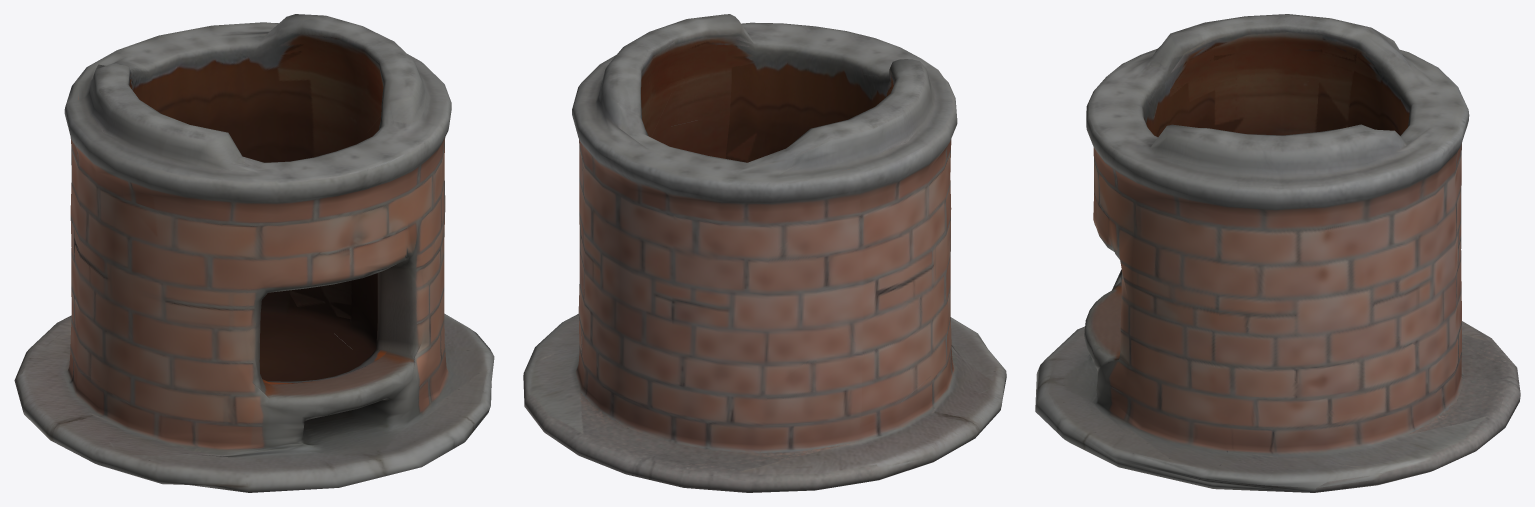
File: Stove.fbx
3 renders of one model, left to right at view 1: azimuth 30°, elevation 25°; view 2: azimuth 150°, elevation 25°; view 3: azimuth 270°, elevation 25°, orthographic.
Parts seen in each view (by area): view 1: input; view 2: input; view 3: input.
Boxes of the visible parts, left/top/right/bottom form: input: left=14, top=14, right=494, bottom=492; input: left=523, top=14, right=1006, bottom=492; input: left=1035, top=14, right=1520, bottom=492.
Bounding box in the file's own units: 186 × 134 × 187.
1 material, 1 textured.
